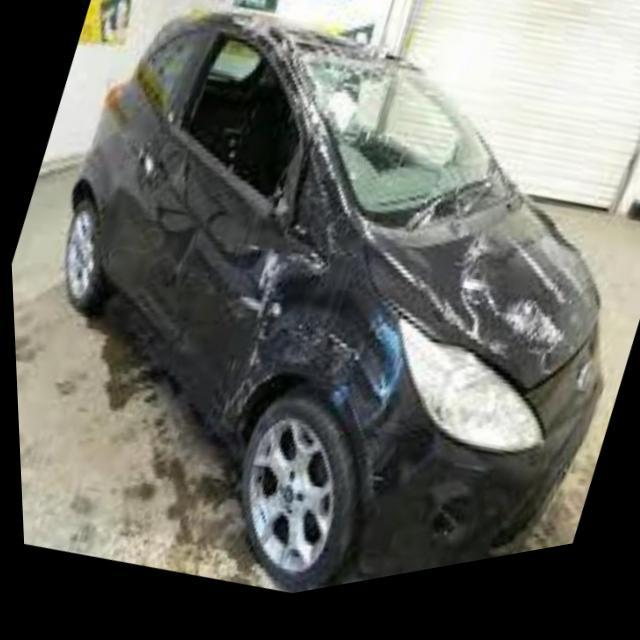dent: (252, 174, 396, 435)
glass shatter: (278, 44, 516, 249), (178, 45, 295, 211)
rub: (451, 249, 571, 368)
